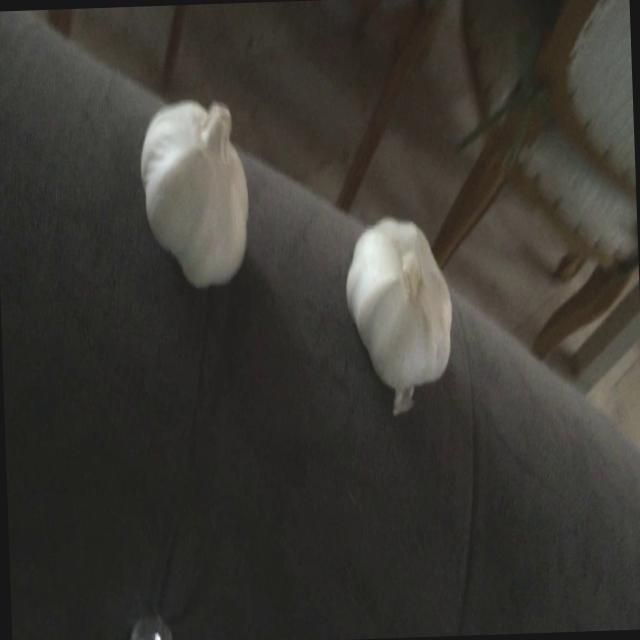bawang: (134, 87, 256, 300), (337, 208, 459, 398)
